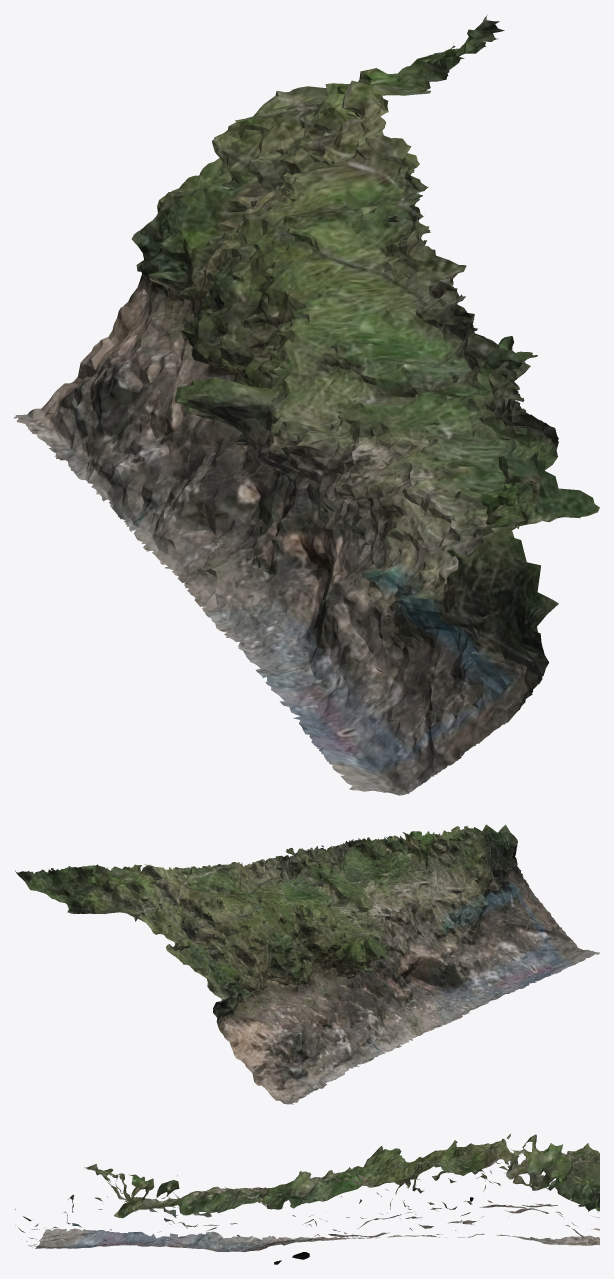
3 views of the same model, one above another, from view 1: azimuth 30°, elevation 25°; view 2: azimuth 150°, elevation 25°; view 3: azimuth 270°, elevation 25° (orthographic). The views are drawn at different scales.
Bounding box in the file's own units: 6.92 × 3.95 × 9.51.
Materials: 1 (1 with a texture image).
